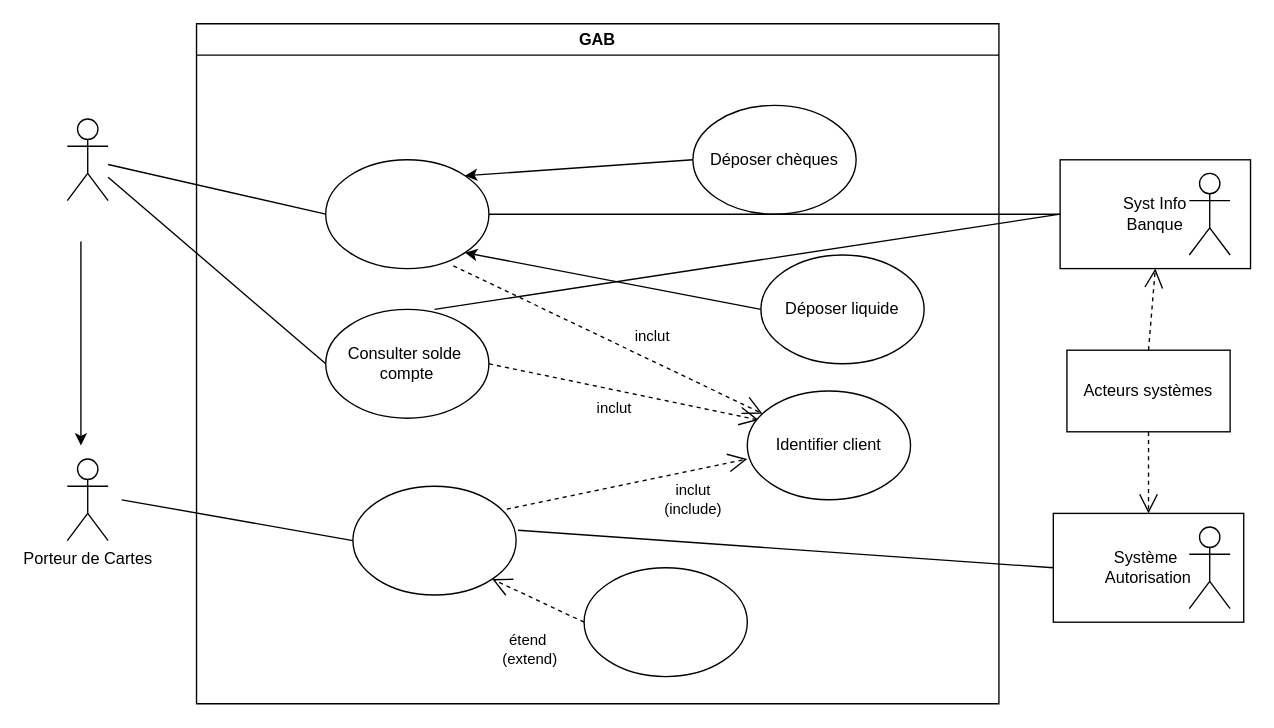
The diagram is 1274 pixels wide and 728 high, and some of its shapes have lost their labels. The shapes that lost their labels are listed below. From the top down, each one's centre as x and y in pixels, then its label:
At (87,159): "Client Banque".
At (406,213): "Déposer de l'argent".
At (434,540): "retirer de l'argent".
At (665,621): "Retirer avec stock de billets insuffisant".
